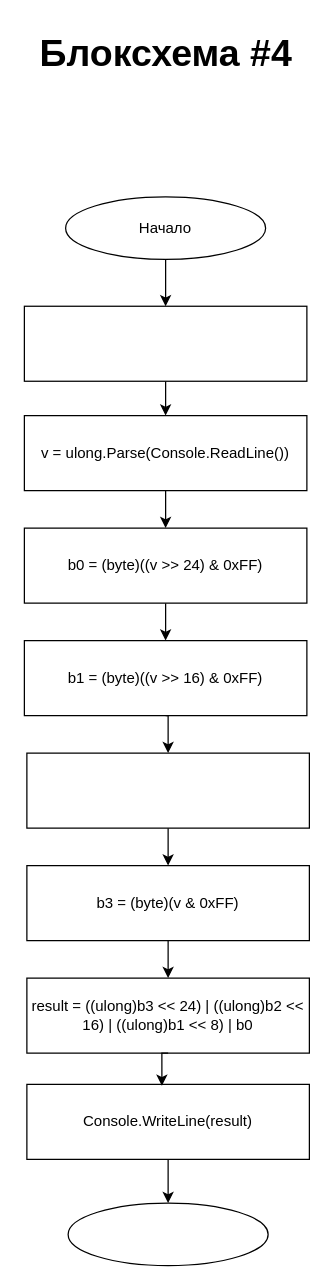
The diagram is 331 pixels wide and 1288 high, and some of its shapes have lost their labels. The shapes that lost their labels are listed below. From the top down, each one's box as (x1, y1, x2, y2) in pixels, then its label:
(23, 305, 307, 381): senderType = Console.ReadLine()
(26, 752, 309, 828): b2 = (byte)((v >> 8) & 0xFF)
(67, 1202, 268, 1266): Конец
